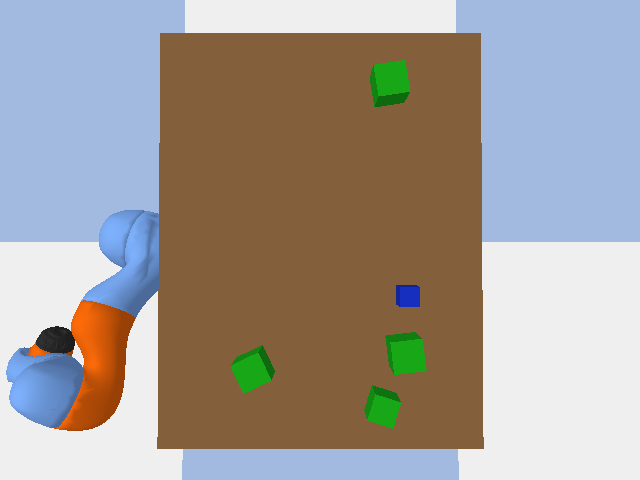blue_obj: (396, 285, 419, 306)
green_obj: (230, 345, 274, 393), (370, 60, 410, 106), (385, 332, 426, 374), (364, 385, 400, 428)
